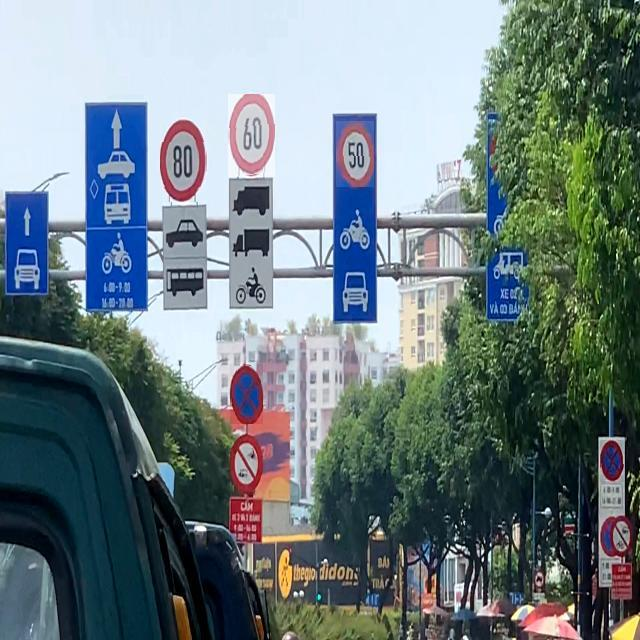P-127: (160, 119, 207, 202), (228, 94, 275, 177), (336, 121, 374, 187)
P-130: (230, 365, 263, 425), (600, 440, 624, 482)
